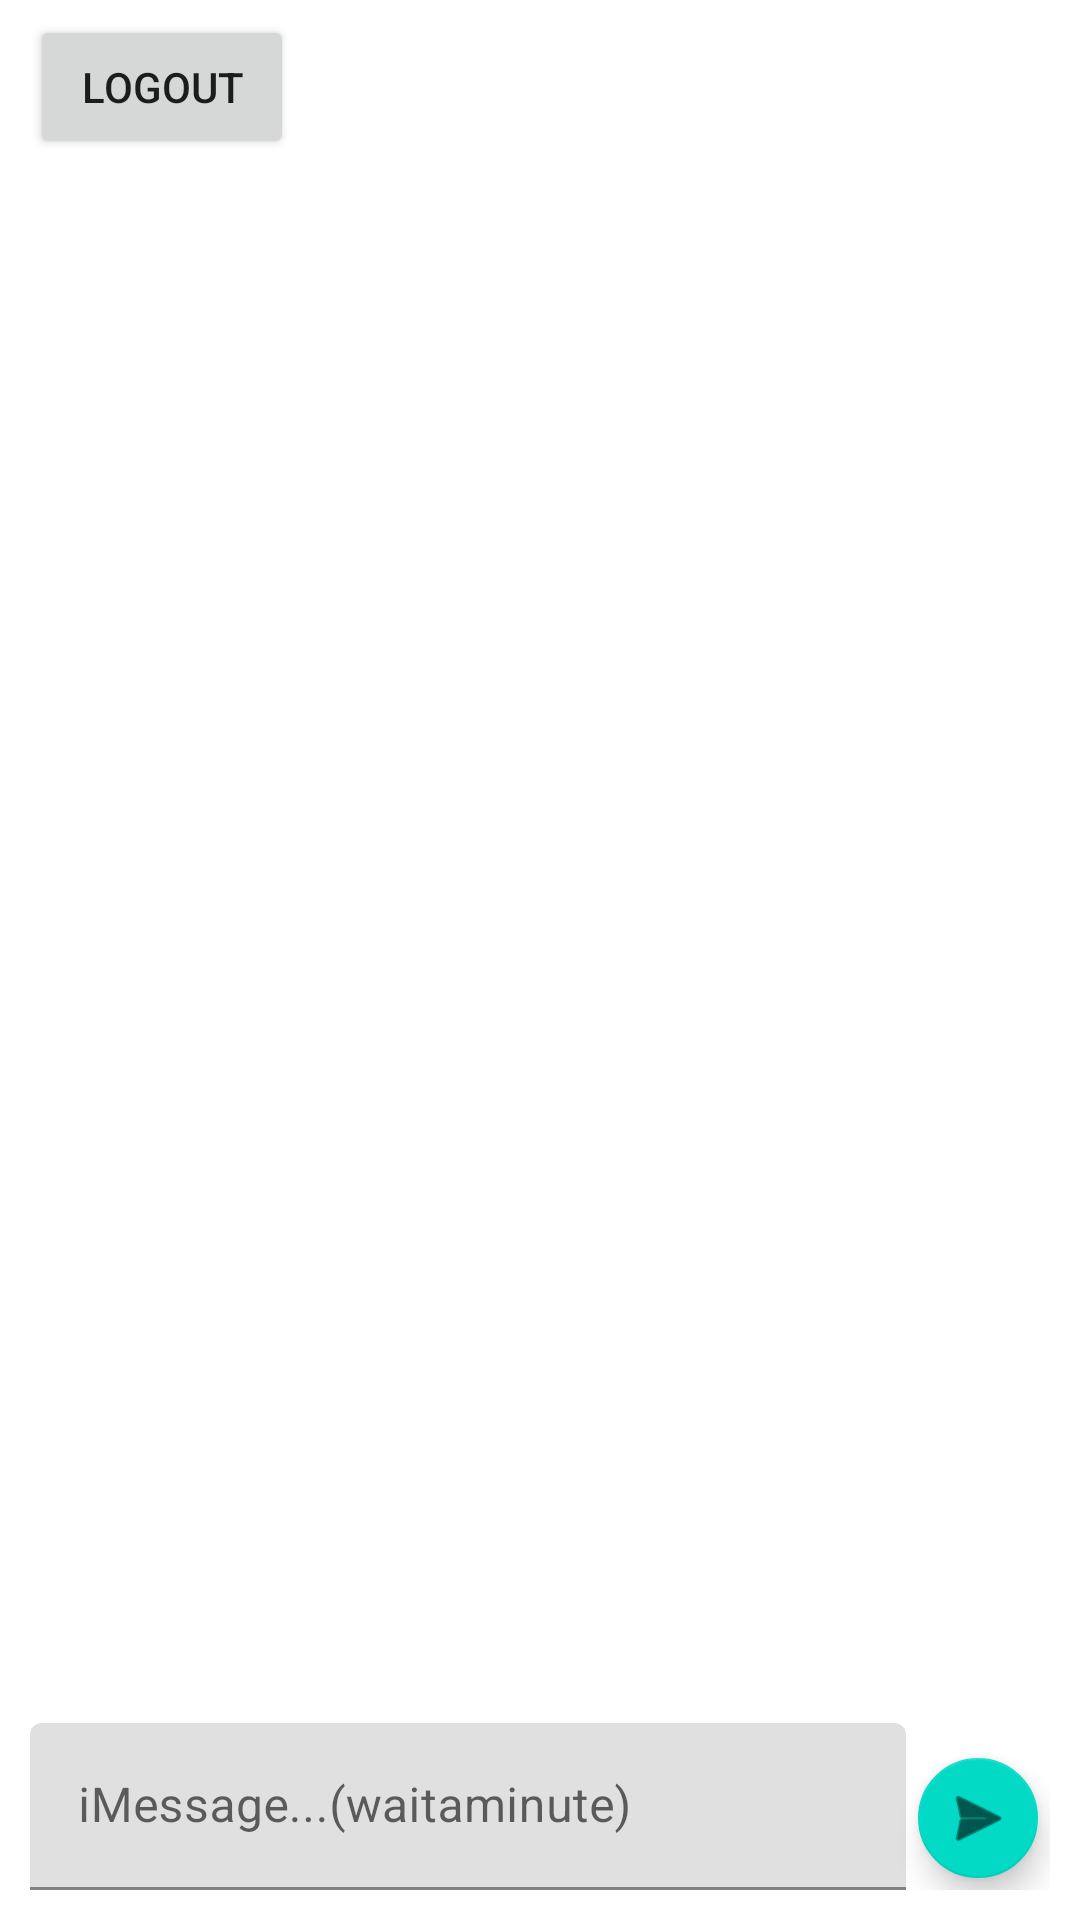

Named icons in this screenshot (1080w x 1920h) and their bounding boxes, (x1, y1, x2, y2):
send: (918, 1758, 1041, 1890)
